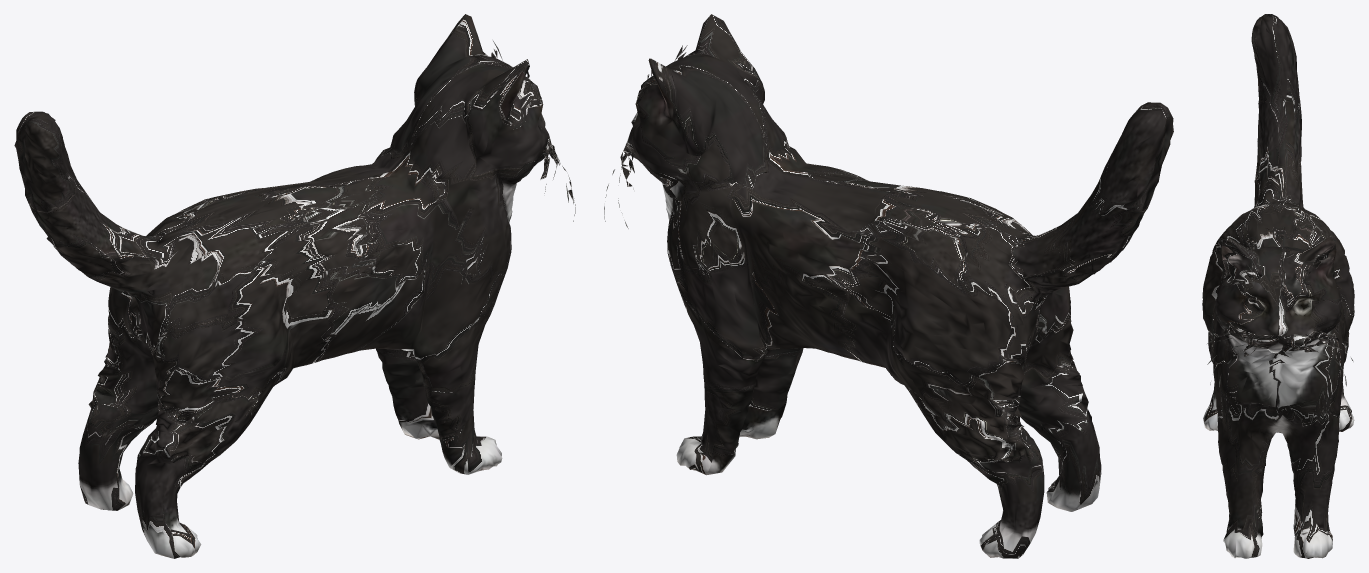
Rendered from CZELDA-lo.glb.
3 views of the same model, side by side, from view 1: azimuth 30°, elevation 25°; view 2: azimuth 150°, elevation 25°; view 3: azimuth 270°, elevation 25° (orthographic). The views are drawn at different scales.
Visible parts, largest first — view 1: tripo_node_551023c3-2041-43d9-a94c-d67544b4a3e3; view 2: tripo_node_551023c3-2041-43d9-a94c-d67544b4a3e3; view 3: tripo_node_551023c3-2041-43d9-a94c-d67544b4a3e3.
Part boxes in pixels (box(x1,y1,x2,y2)): tripo_node_551023c3-2041-43d9-a94c-d67544b4a3e3: box(14, 14, 575, 558); tripo_node_551023c3-2041-43d9-a94c-d67544b4a3e3: box(604, 14, 1173, 558); tripo_node_551023c3-2041-43d9-a94c-d67544b4a3e3: box(1202, 14, 1354, 558).
Bounding box in the file's own units: 1.24 × 0.9979 × 0.3748.
1 material, 1 textured.
